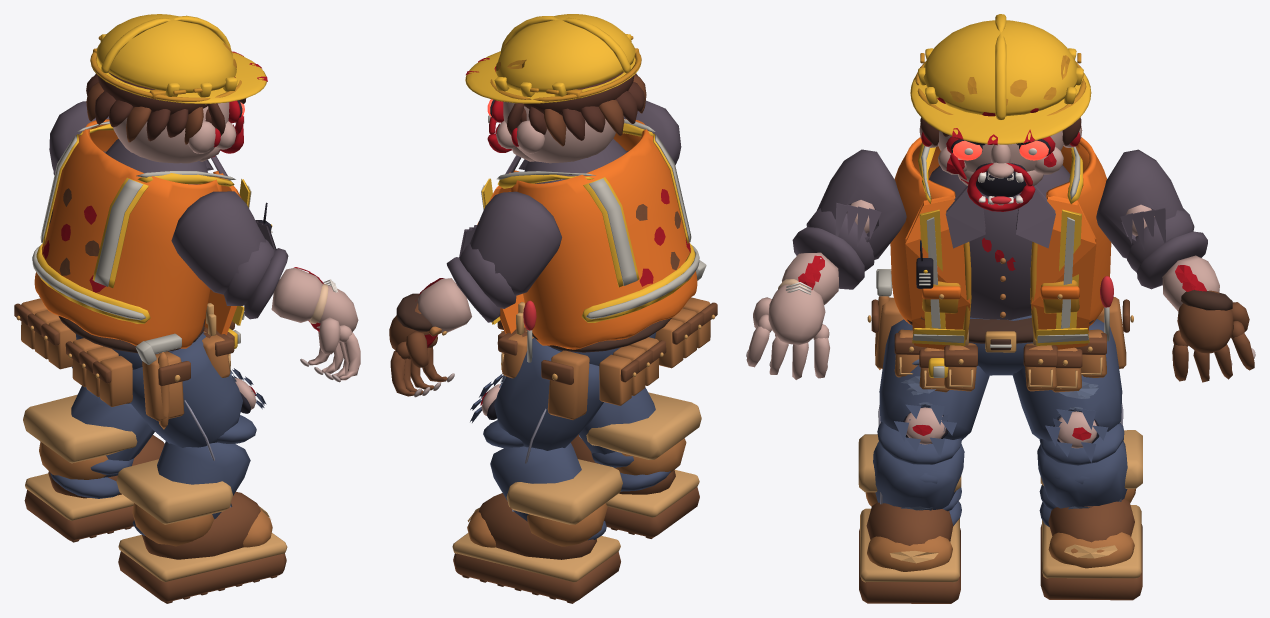
The picture shows the model from 3 angles, left to right: view 1: azimuth 30°, elevation 25°; view 2: azimuth 150°, elevation 25°; view 3: azimuth 270°, elevation 25°; orthographic projection. The views are drawn at different scales.
Visible parts, largest first — view 1: torso__pal_orange, head__pal_schoolBusYellow, footR__pal_shoeTan, hip__pal_woodWarm, footR__pal_leatherShadow, armR__pal_asphalt, footL__pal_shoeTan, legR__pal_denim, shinR__pal_denim, shinL__pal_denim, torso__pal_silver, torso__pal_schoolBusYellow (+18 smaller); view 2: torso__pal_orange, head__pal_schoolBusYellow, footL__pal_shoeTan, hip__pal_woodWarm, footL__pal_leatherShadow, armL__pal_asphalt, legL__pal_denim, footR__pal_shoeTan, shinL__pal_denim, torso__pal_silver, torso__pal_schoolBusYellow, head__pal_hairBrown (+17 smaller); view 3: head__pal_schoolBusYellow, torso__pal_orange, torso__pal_asphalt, shinR__pal_denim, shinL__pal_denim, hip__pal_woodWarm, armL__pal_asphalt, armR__pal_asphalt, handR__pal_infectedSkin, legR__pal_denim, legL__pal_denim, footL__pal_leatherShadow (+27 smaller).
Part boxes in pixels (x1=…): torso__pal_orange: x1=34, y1=119, x2=241, y2=348; head__pal_schoolBusYellow: x1=91, y1=14, x2=266, y2=104; footR__pal_shoeTan: x1=116, y1=459, x2=287, y2=582; hip__pal_woodWarm: x1=21, y1=298, x2=230, y2=429; footR__pal_leatherShadow: x1=118, y1=491, x2=286, y2=603; armR__pal_asphalt: x1=171, y1=191, x2=276, y2=294; footL__pal_shoeTan: x1=23, y1=394, x2=137, y2=520; legR__pal_denim: x1=130, y1=332, x2=266, y2=447; shinR__pal_denim: x1=132, y1=415, x2=256, y2=535; shinL__pal_denim: x1=50, y1=386, x2=154, y2=498; torso__pal_silver: x1=32, y1=121, x2=272, y2=320; torso__pal_schoolBusYellow: x1=36, y1=124, x2=272, y2=325; torso__pal_orange: x1=477, y1=119, x2=697, y2=349; head__pal_schoolBusYellow: x1=465, y1=14, x2=640, y2=103; footL__pal_shoeTan: x1=452, y1=459, x2=622, y2=582; hip__pal_woodWarm: x1=502, y1=297, x2=710, y2=419; footL__pal_leatherShadow: x1=453, y1=493, x2=620, y2=603; armL__pal_asphalt: x1=459, y1=191, x2=561, y2=295; legL__pal_denim: x1=470, y1=338, x2=603, y2=450; footR__pal_shoeTan: x1=586, y1=392, x2=701, y2=517; shinL__pal_denim: x1=483, y1=420, x2=606, y2=540; torso__pal_silver: x1=481, y1=119, x2=699, y2=319; torso__pal_schoolBusYellow: x1=481, y1=123, x2=695, y2=324; head__pal_hairBrown: x1=507, y1=72, x2=644, y2=140; head__pal_schoolBusYellow: x1=910, y1=14, x2=1091, y2=144; torso__pal_orange: x1=890, y1=137, x2=1111, y2=349; torso__pal_asphalt: x1=929, y1=165, x2=1070, y2=319; shinR__pal_denim: x1=873, y1=421, x2=964, y2=525; shinL__pal_denim: x1=1037, y1=423, x2=1127, y2=527; hip__pal_woodWarm: x1=875, y1=296, x2=1126, y2=392; armL__pal_asphalt: x1=1096, y1=149, x2=1184, y2=258; armR__pal_asphalt: x1=817, y1=149, x2=906, y2=259; handR__pal_infectedSkin: x1=746, y1=284, x2=829, y2=379; legR__pal_denim: x1=879, y1=319, x2=989, y2=457; legL__pal_denim: x1=1012, y1=319, x2=1122, y2=462; footL__pal_leatherShadow: x1=1040, y1=498, x2=1142, y2=600.
Size of what is drawn, in the model's own units: 0.5714 by 1.38 by 1.15.
